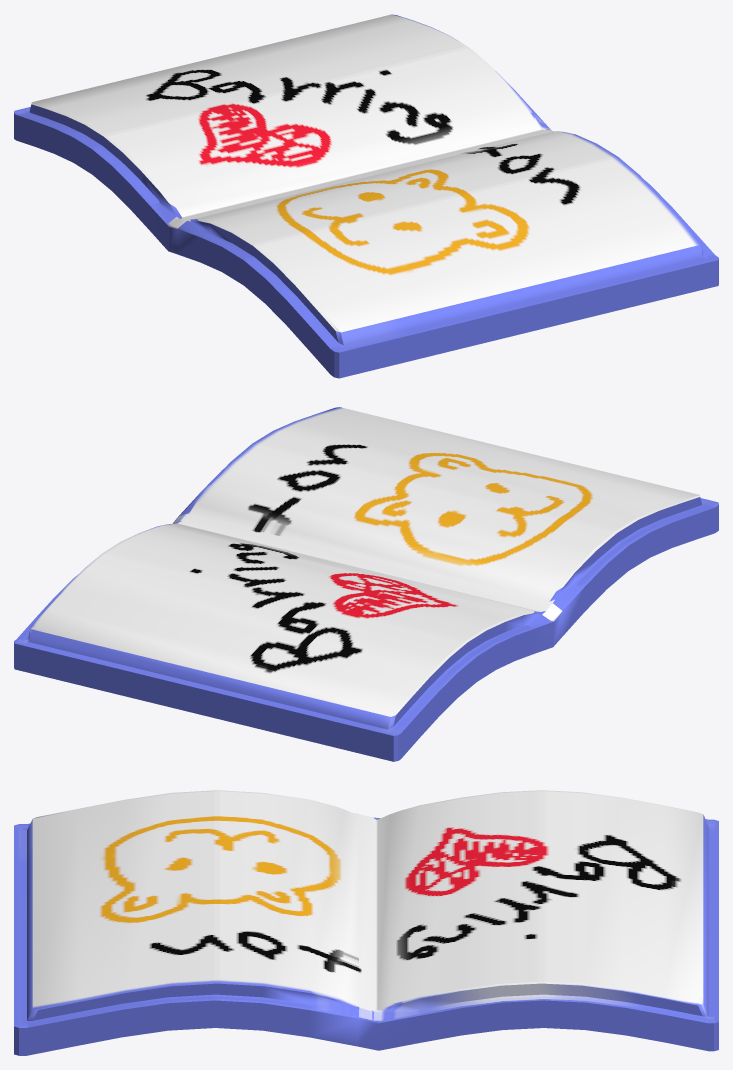
The model's file is booknormal.fbx.
3 renders of one model, top to bottom at view 1: azimuth 30°, elevation 25°; view 2: azimuth 150°, elevation 25°; view 3: azimuth 270°, elevation 25°, orthographic. The views are drawn at different scales.
Visible parts, largest first — view 1: Cube; view 2: Cube; view 3: Cube.
Boxes of the visible parts, x1,y1,x2,y2 form: Cube: (14, 14, 718, 378); Cube: (14, 407, 718, 761); Cube: (14, 790, 718, 1055).
Bounding box in the file's own units: 573 × 89.07 × 837.
1 material, 1 textured.
